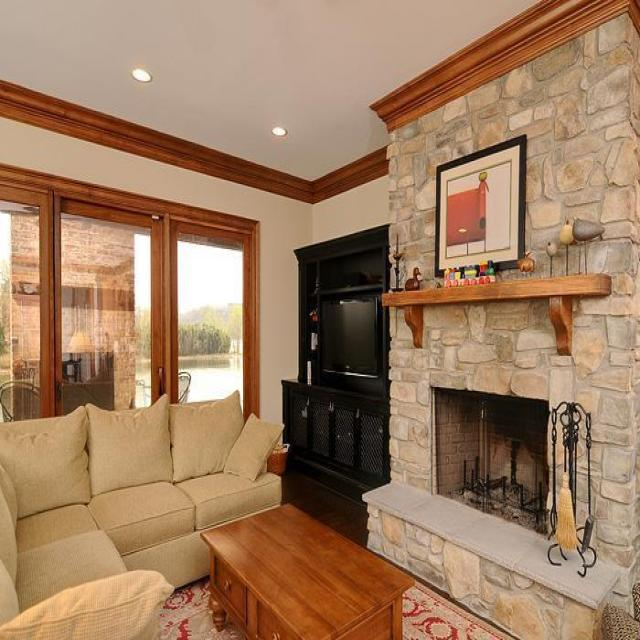crib: (546, 399, 597, 577)
cupboard: (281, 222, 392, 506)
pillows: (0, 405, 91, 518), (85, 392, 173, 497), (168, 388, 244, 483), (222, 411, 284, 482)
pots: (266, 442, 290, 475)
rugs: (156, 566, 516, 638)
sofa: (0, 388, 283, 637)
table: (198, 501, 415, 638)
table-lamp: (65, 330, 94, 382)
television: (319, 292, 381, 379)
windows: (54, 195, 155, 415), (0, 185, 46, 422)
